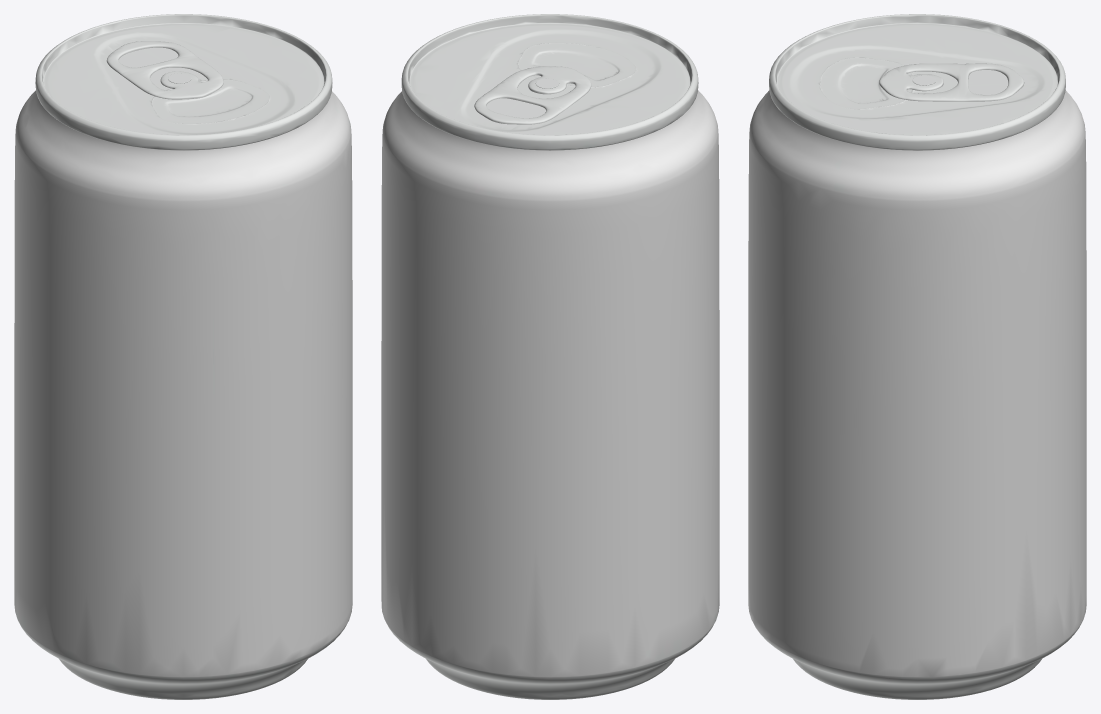
The model's file is soda-can.min.glb.
3 views of the same model, side by side, from view 1: azimuth 30°, elevation 25°; view 2: azimuth 150°, elevation 25°; view 3: azimuth 270°, elevation 25° (orthographic).
Visible parts, largest first — view 1: soda-can-005; view 2: soda-can-005; view 3: soda-can-005.
Boxes of the visible parts, x1,y1,x2,y2 form: soda-can-005: (14, 14, 352, 699); soda-can-005: (381, 14, 719, 699); soda-can-005: (748, 14, 1086, 699).
Bounding box in the file's own units: 0.2698 × 0.5033 × 0.2699.
Materials: 1 (1 with a texture image).
